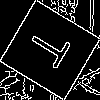T: (25, 24, 80, 75)
